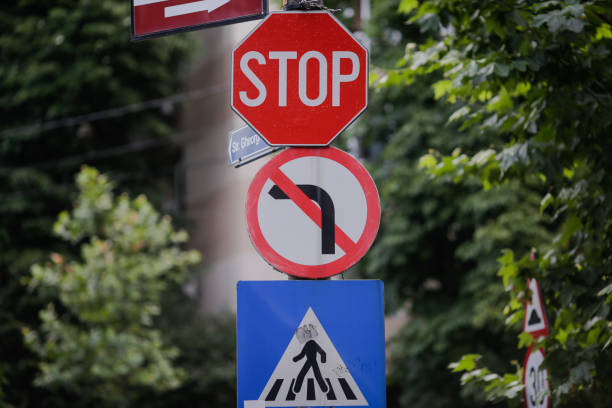sola_girilmez: (240, 149, 388, 287)
yaya_gecidi: (229, 278, 400, 407)
